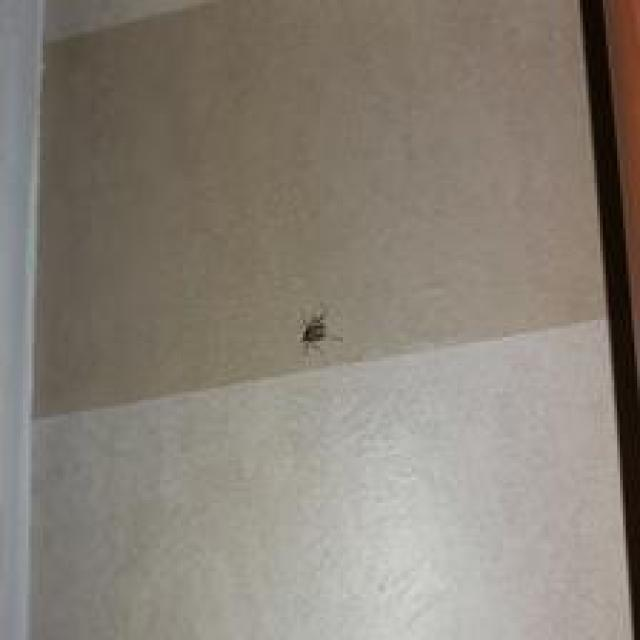Culex: (294, 306, 343, 357)
